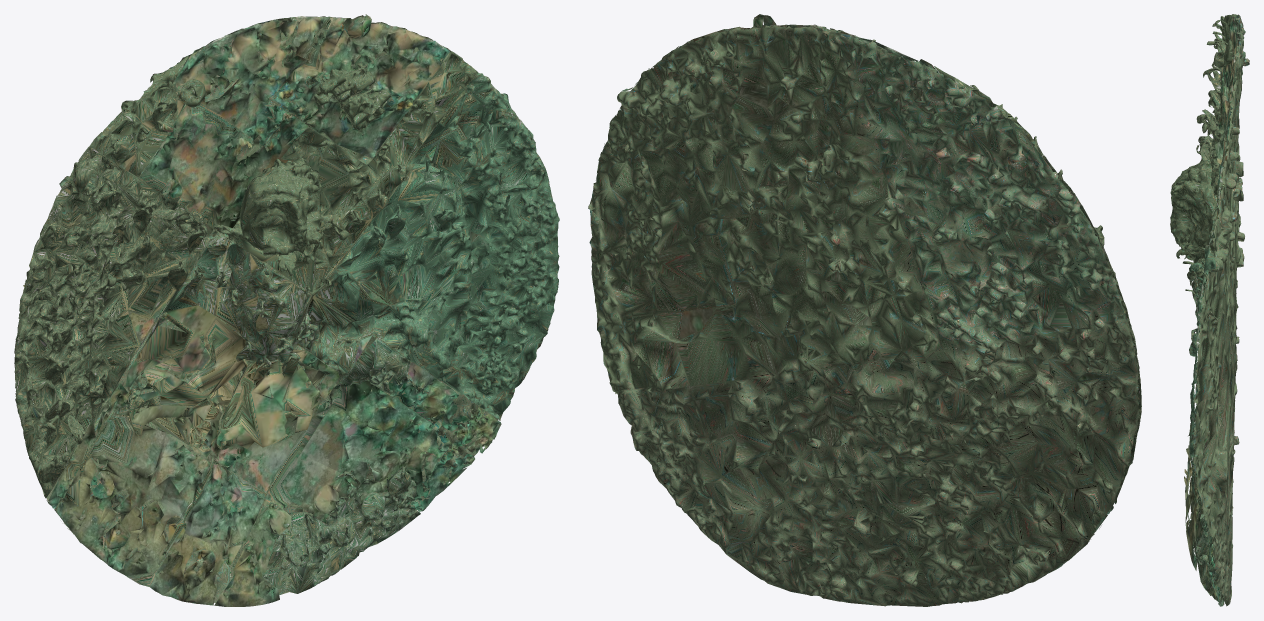
Rendered from preview.glb.
3 renders of one model, left to right at view 1: azimuth 30°, elevation 25°; view 2: azimuth 150°, elevation 25°; view 3: azimuth 270°, elevation 25°, orthographic. The views are drawn at different scales.
Bounding box in the file's own units: 0.2644 × 0.2648 × 0.0358.
7 materials, 6 textured.
